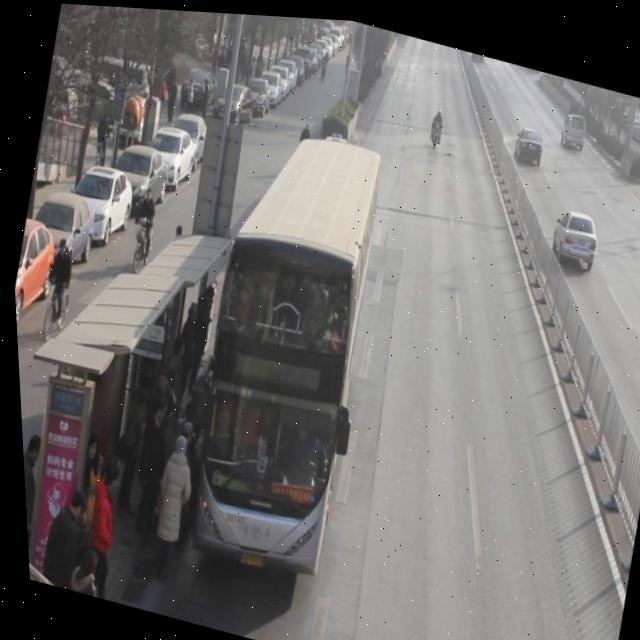car: (544, 198, 602, 266), (509, 116, 547, 162), (468, 46, 484, 57)
truck: (556, 102, 589, 147)
van: (154, 112, 402, 583)
